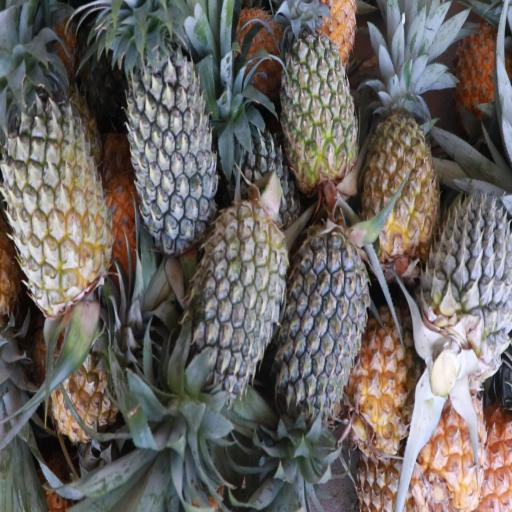------------------------------: (3, 90, 108, 310), (280, 22, 354, 200)
Pineapple - v8 v1: (362, 82, 438, 262), (54, 312, 156, 445), (352, 307, 427, 458), (413, 387, 487, 512), (438, 72, 439, 73)
